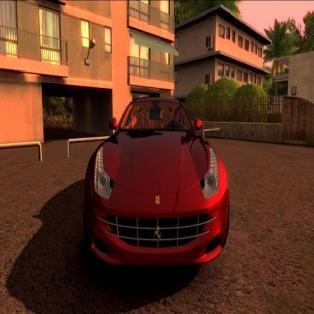Auto: (84, 96, 230, 272)
